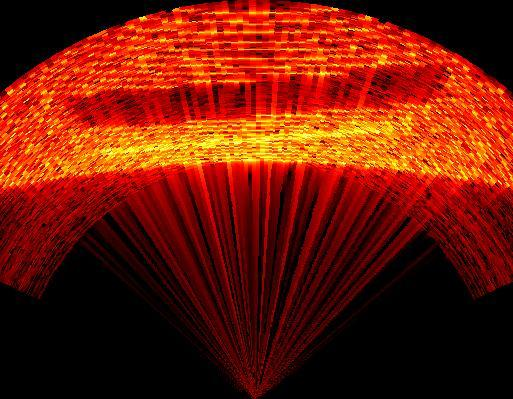pipe: (65, 62, 457, 132)
